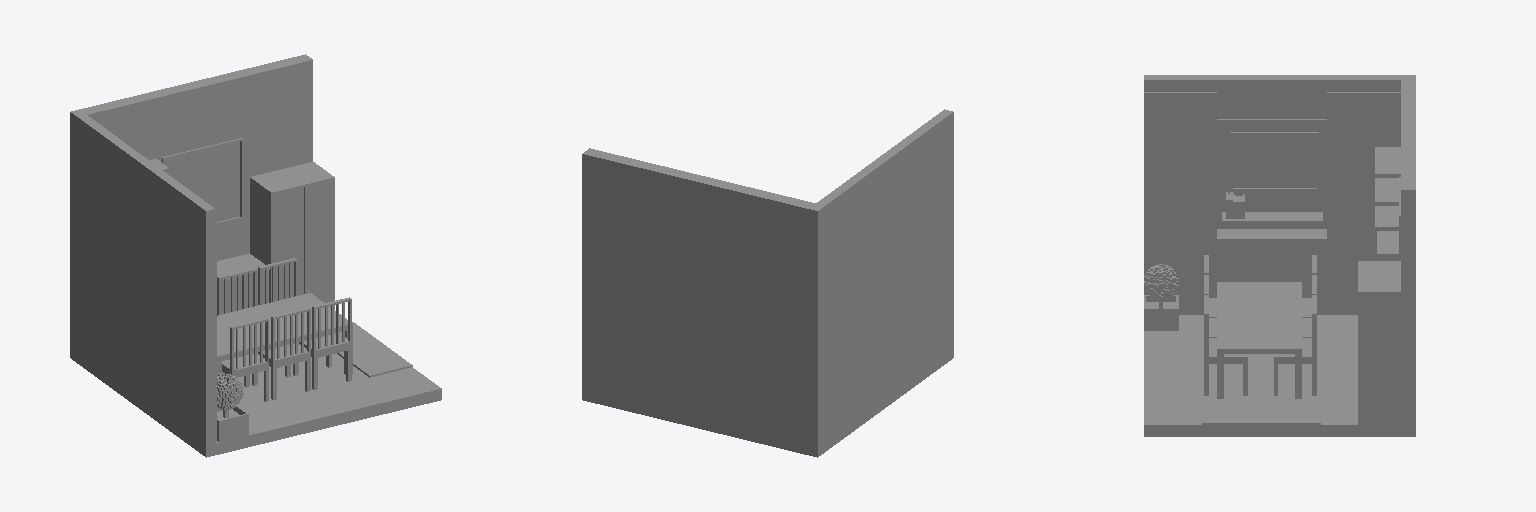
Rendered from kitchen_02.obj.
3 renders of one model, left to right at view 1: azimuth 30°, elevation 25°; view 2: azimuth 150°, elevation 25°; view 3: azimuth 270°, elevation 25°, orthographic.
Parts seen in each view (by area): view 1: Kitchen; view 2: Kitchen; view 3: Kitchen.
Part boxes in pixels (bbox=[...]): Kitchen: bbox=[70, 54, 441, 457]; Kitchen: bbox=[582, 109, 953, 457]; Kitchen: bbox=[1144, 75, 1415, 436].
Bounding box in the file's own units: 126 × 126 × 126.